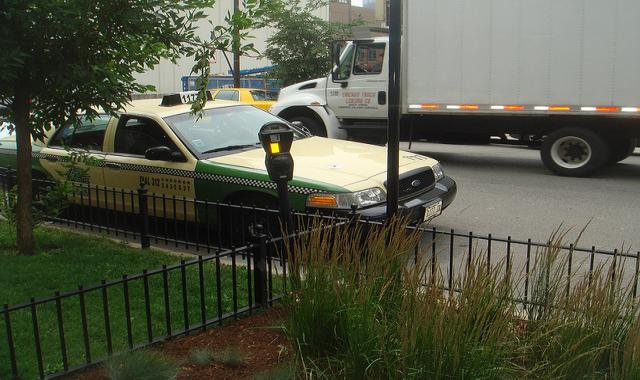car: (15, 96, 454, 237), (200, 79, 290, 121)
truck: (287, 0, 640, 176)
